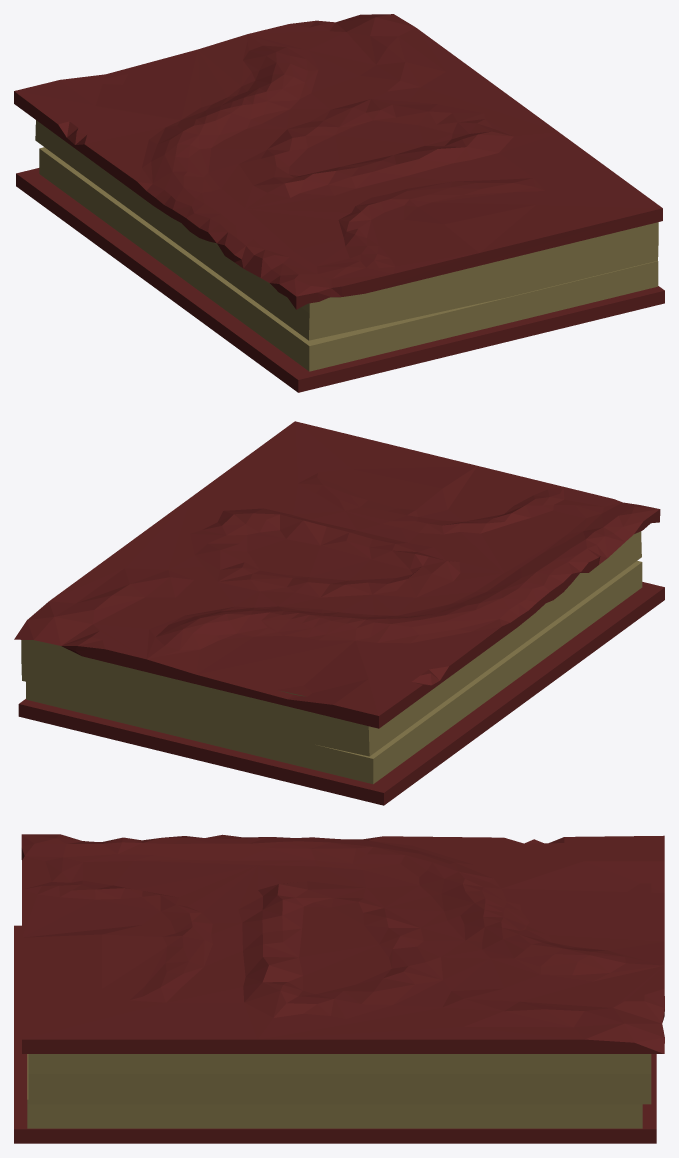
Rendered from book.fbx.
3 renders of one model, top to bottom at view 1: azimuth 30°, elevation 25°; view 2: azimuth 150°, elevation 25°; view 3: azimuth 270°, elevation 25°, orthographic. The views are drawn at different scales.
Visible parts, largest first — view 1: Cover R, Cover L; view 2: Cover R, Cover L; view 3: Cover R, Cover L.
Part boxes in pixels (left/top/right/bottom): Cover R: left=14, top=14, right=662, bottom=340; Cover L: left=16, top=147, right=664, bottom=392; Cover R: left=14, top=421, right=660, bottom=756; Cover L: left=18, top=560, right=664, bottom=805; Cover R: left=21, top=834, right=664, bottom=1104; Cover L: left=14, top=925, right=656, bottom=1143.
Size of the model in its own units: 151 by 39.29 by 203.
